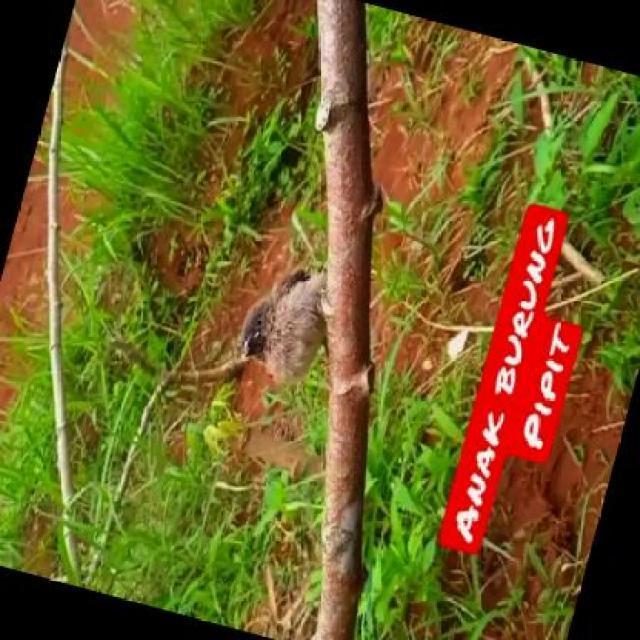Bird: (233, 264, 336, 403)
